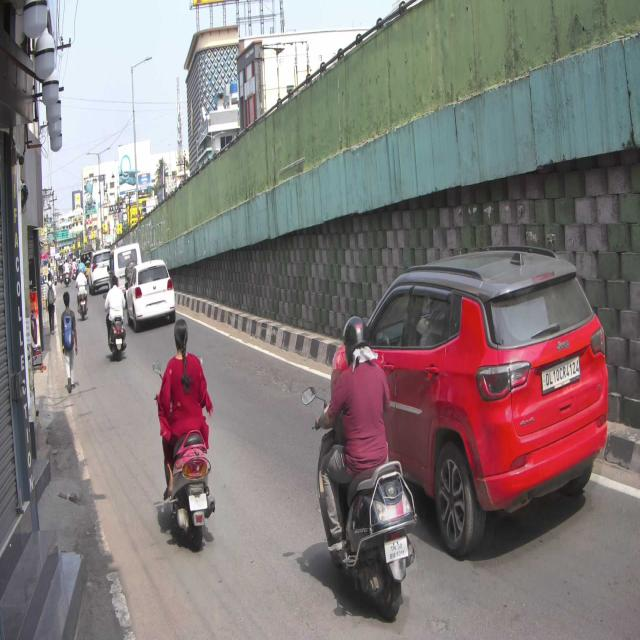single_rider: (311, 312, 418, 620), (156, 316, 218, 552)
